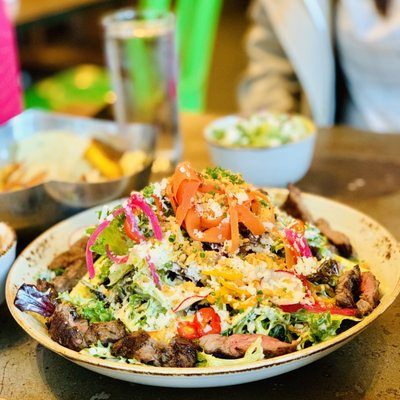sushi: (24, 172, 399, 397), (0, 108, 159, 211), (202, 111, 317, 188)
